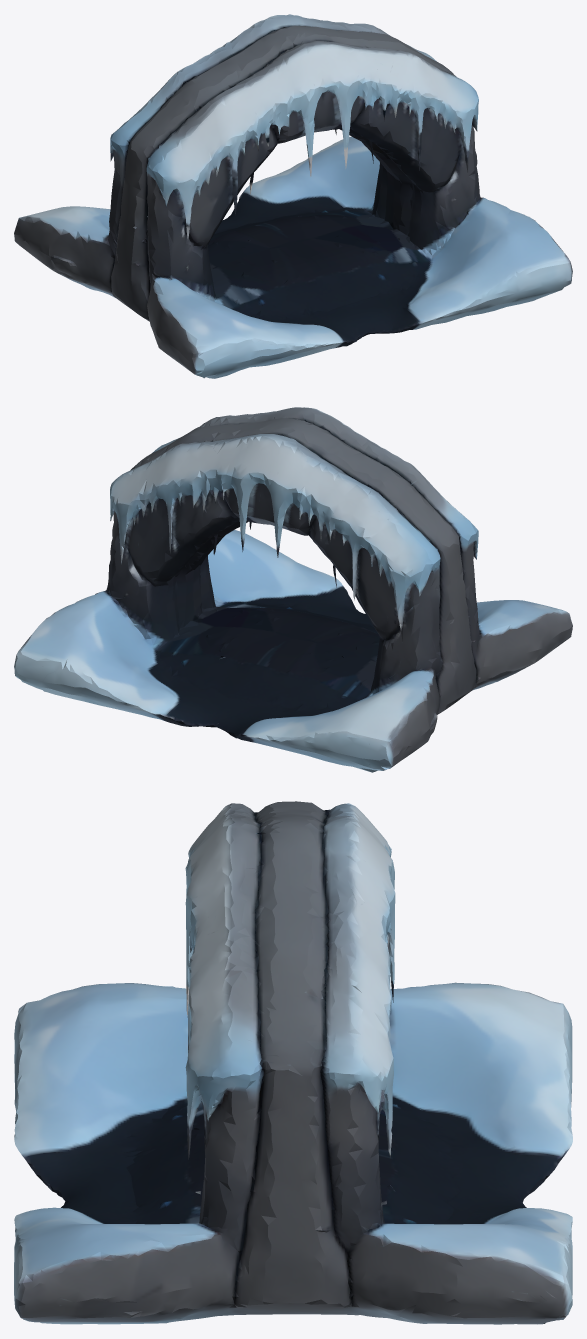
Rendered from Hollow_CaveMouth.glb.
3 renders of one model, top to bottom at view 1: azimuth 30°, elevation 25°; view 2: azimuth 150°, elevation 25°; view 3: azimuth 270°, elevation 25°, orthographic. The views are drawn at different scales.
Parts seen in each view (by area): view 1: Cave_Entrance; view 2: Cave_Entrance; view 3: Cave_Entrance.
Boxes of the visible parts, x1,y1,x2,y2 form: Cave_Entrance: [14, 14, 572, 378]; Cave_Entrance: [14, 407, 572, 772]; Cave_Entrance: [14, 801, 572, 1324].
Size of the model in its own units: 5.55 by 3.6 by 4.63.
1 material, 1 textured.
